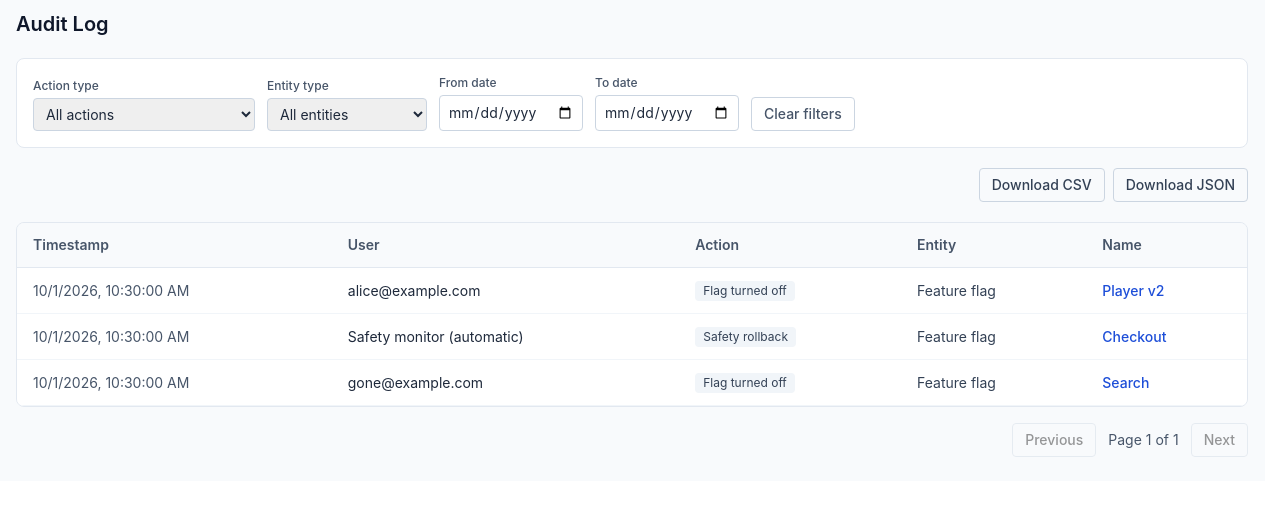
Test case: Download CSV and Download JSON (#221) › says how to narrow an export above the cap
This screenshot has width=1265, height=520.
Expected: the row with test id "audit-log-row-log-1" is shown, [17, 268, 1247, 314]
Click the button with test id "audit-download-json" at (1180, 185), box [1113, 168, 1248, 202]
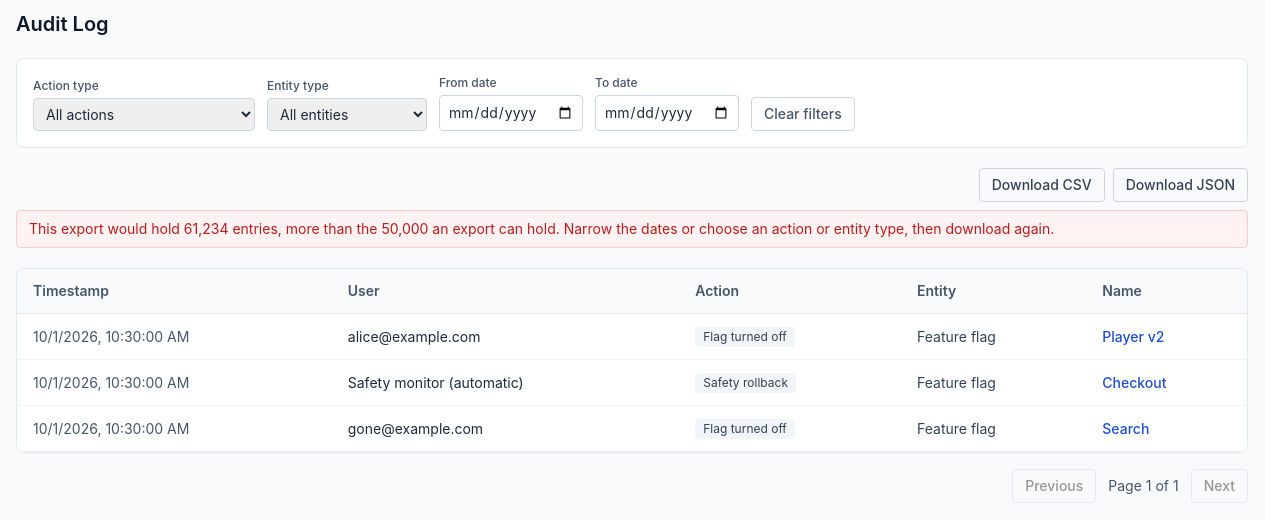
Expected: the message shows "This export would hold 61,234 entries, more than the 50,000 an export can hold.", [29, 220, 1054, 237]
